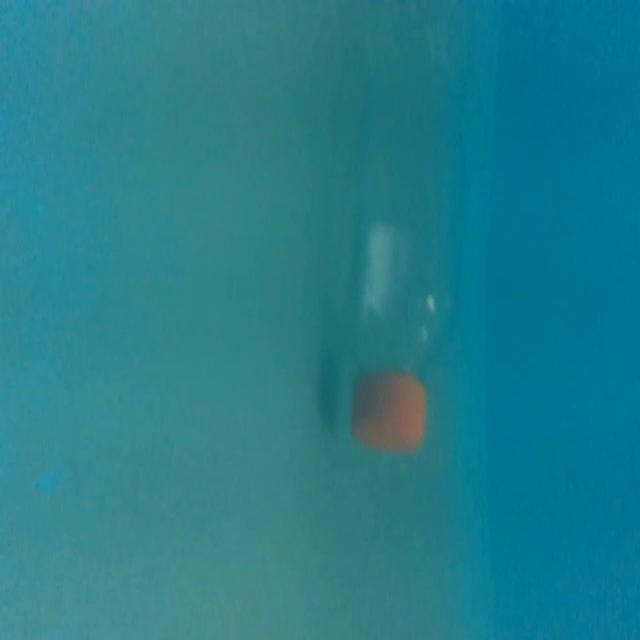plastic bottle: (324, 3, 481, 471)
